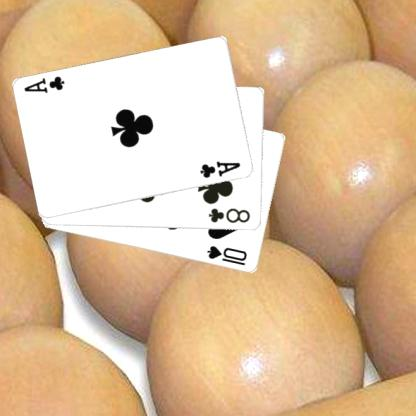10S: (206, 243, 250, 267)
8C: (208, 206, 254, 225)
AC: (23, 73, 68, 95), (199, 159, 244, 180)
